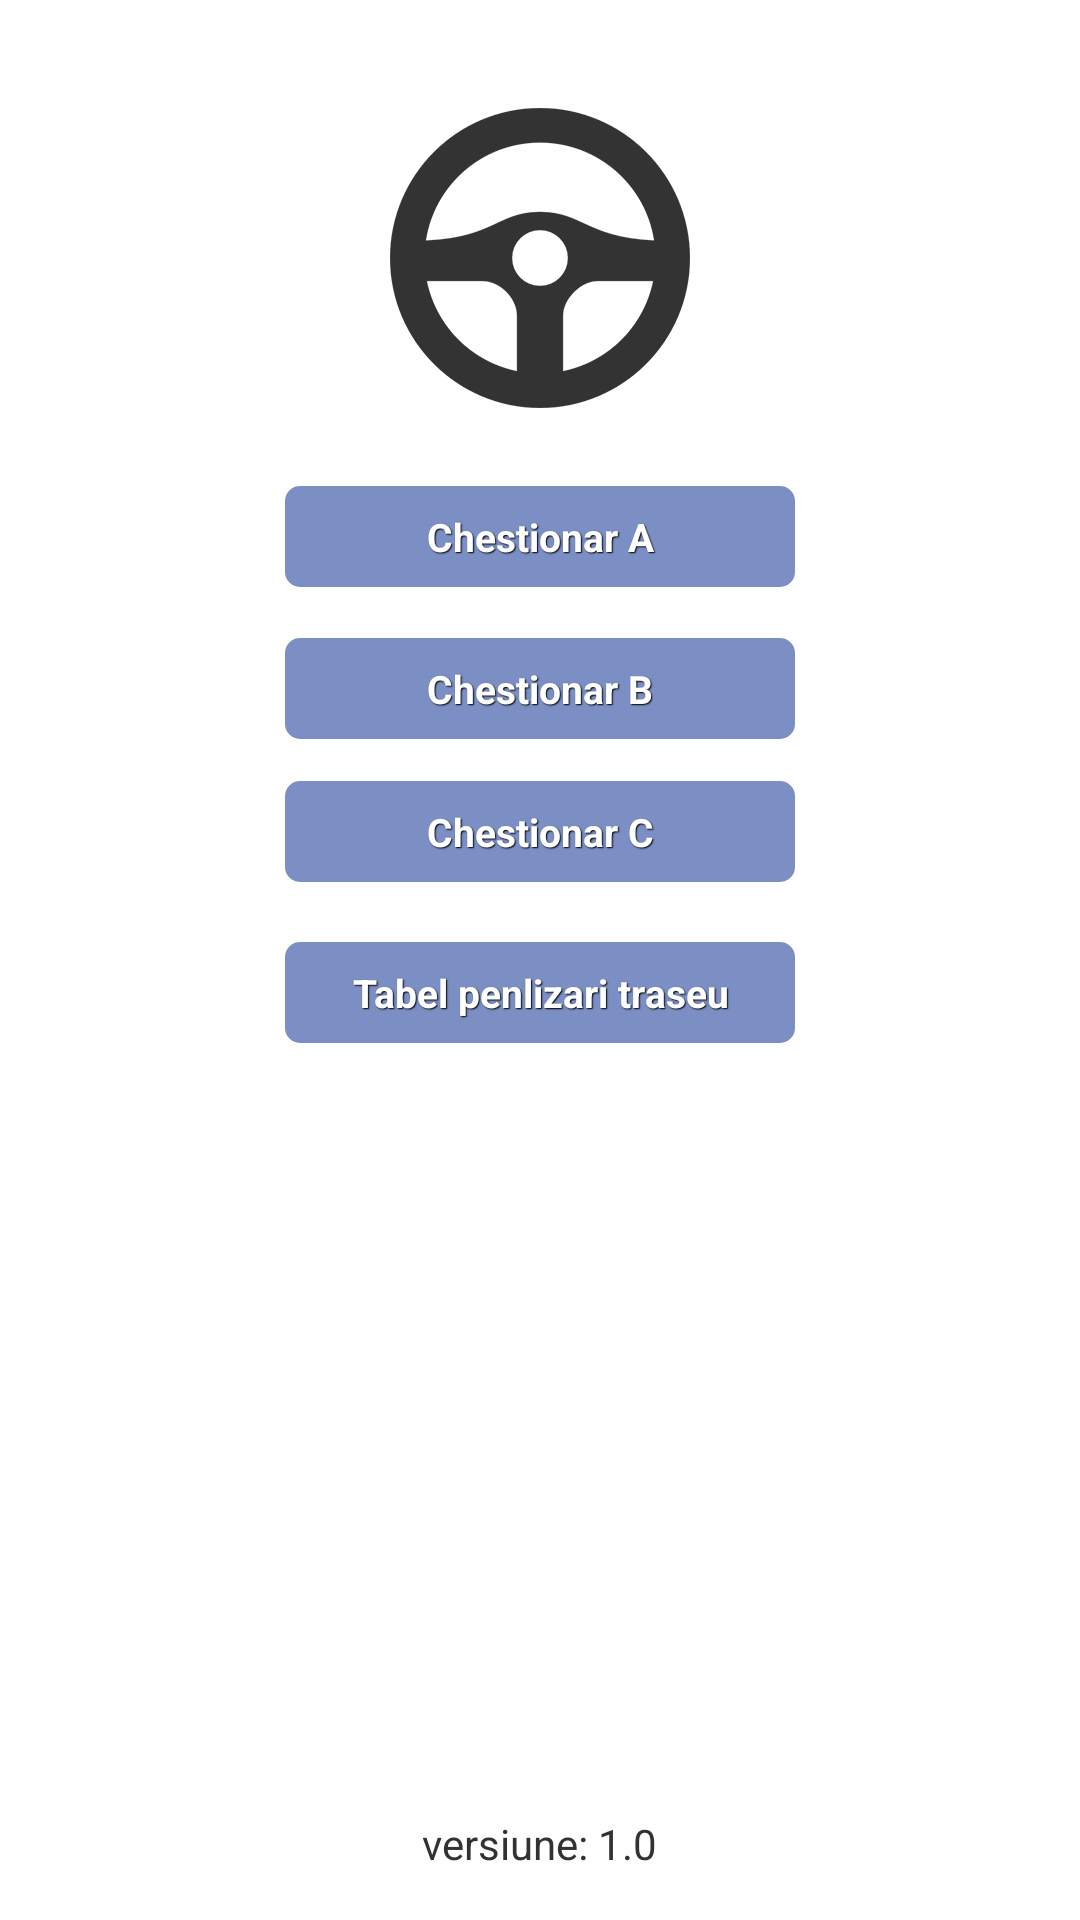

Screen size 1080*1920. Icon name, then its center in pixels as [x,y]:
steering wheel: [540,258]
